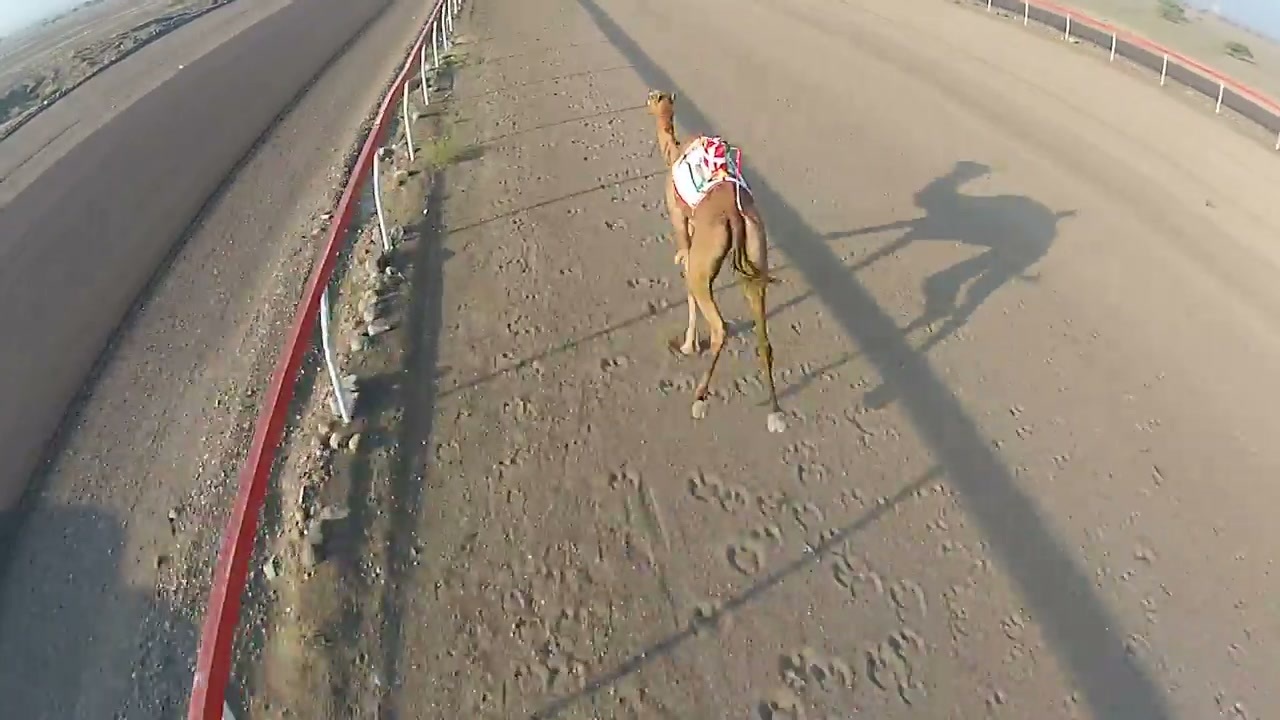animal_foot_print: (680, 413, 955, 711)
